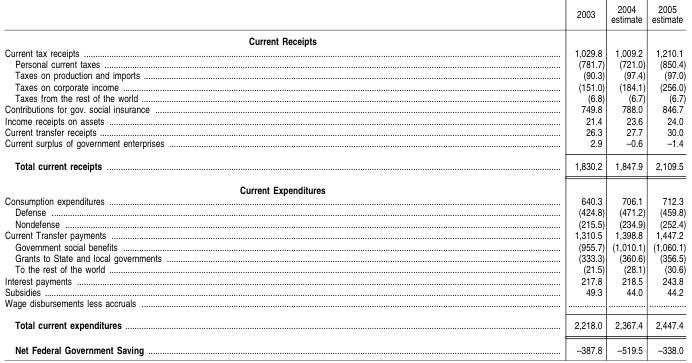table: (4, 4, 685, 356)
table column: (4, 4, 365, 356), (365, 4, 605, 356), (605, 4, 646, 356), (646, 4, 685, 356)
table column header: (4, 4, 685, 30)
table projected row header: (4, 177, 685, 195), (4, 30, 685, 47)
table row: (4, 4, 685, 30), (4, 314, 685, 337), (4, 155, 685, 177), (4, 337, 685, 356), (4, 177, 685, 195), (4, 30, 685, 47), (4, 138, 685, 155), (4, 297, 685, 314), (4, 69, 685, 81), (4, 103, 685, 115), (4, 126, 685, 138), (4, 195, 685, 207), (4, 229, 685, 241), (4, 263, 685, 275), (4, 47, 685, 58), (4, 58, 685, 69), (4, 81, 685, 92), (4, 92, 685, 103), (4, 115, 685, 126), (4, 207, 685, 218), (4, 218, 685, 229), (4, 241, 685, 252), (4, 252, 685, 263), (4, 275, 685, 286), (4, 286, 685, 297)
